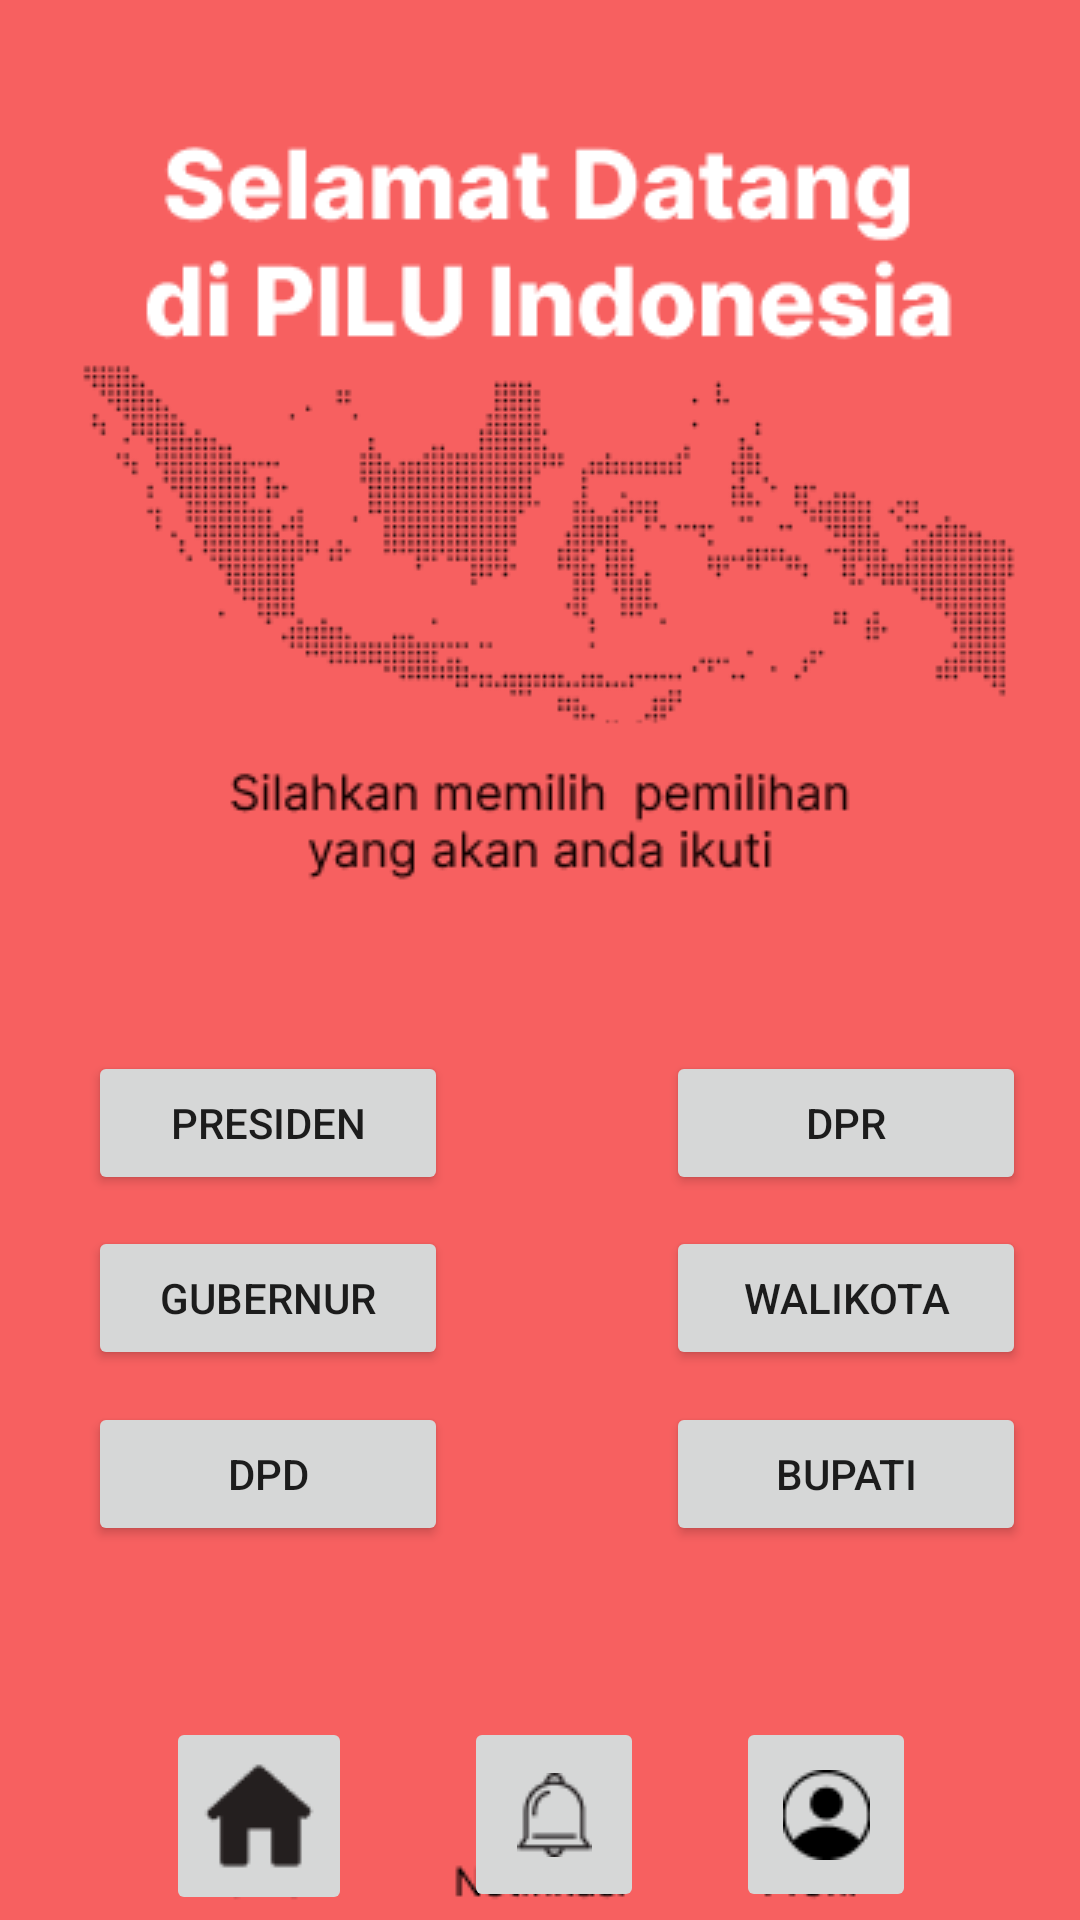

Named icons in this screenshot (1080 x 1920) and their bounding boxes, rect(x1, y1, x2, y2):
home: rect(178, 1735, 340, 1898)
